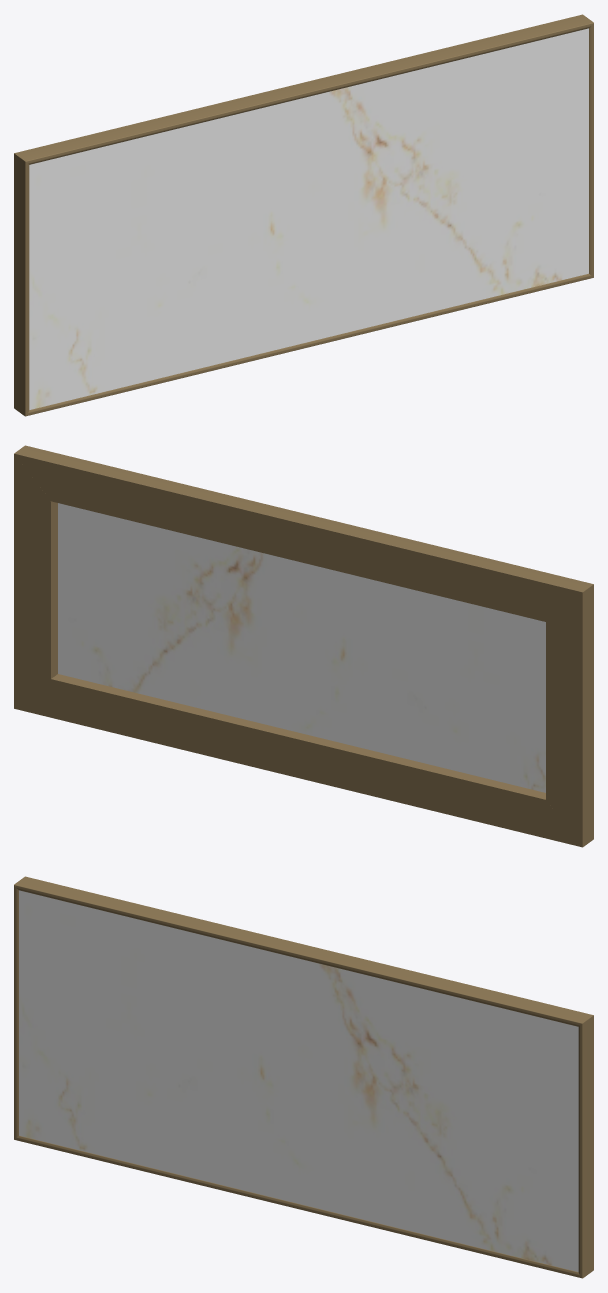
Rendered from RFP-700-300-15.glb.
The picture shows the model from 3 angles, top to bottom: view 1: azimuth 30°, elevation 25°; view 2: azimuth 150°, elevation 25°; view 3: azimuth 330°, elevation 25°; orthographic projection.
Visible parts, largest first — view 1: Object_node, Extrusion, Extrusion_node_1, Extrusion_node_0, Extrusion_node; view 2: Object_node, Extrusion, Extrusion_node_0, Extrusion_node_1, Extrusion_node; view 3: Object_node, Extrusion, Extrusion_node, Extrusion_node_0, Extrusion_node_1.
Part boxes in pixels (x1,y1,x2,y2): Object_node: [29, 28, 588, 409]; Extrusion: [14, 14, 593, 164]; Extrusion_node_1: [14, 153, 29, 416]; Extrusion_node_0: [26, 273, 593, 416]; Extrusion_node: [589, 23, 593, 277]; Object_node: [58, 503, 545, 792]; Extrusion: [14, 445, 593, 621]; Extrusion_node_0: [14, 674, 582, 847]; Extrusion_node_1: [546, 584, 593, 846]; Extrusion_node: [14, 454, 57, 708]; Object_node: [19, 890, 578, 1271]; Extrusion: [14, 876, 593, 1026]; Extrusion_node: [578, 1015, 593, 1278]; Extrusion_node_0: [14, 1135, 581, 1278]; Extrusion_node_1: [14, 885, 18, 1139].
Size of the model in its own units: 0.7 by 0.3 by 0.0242.
2 materials, 1 textured.
